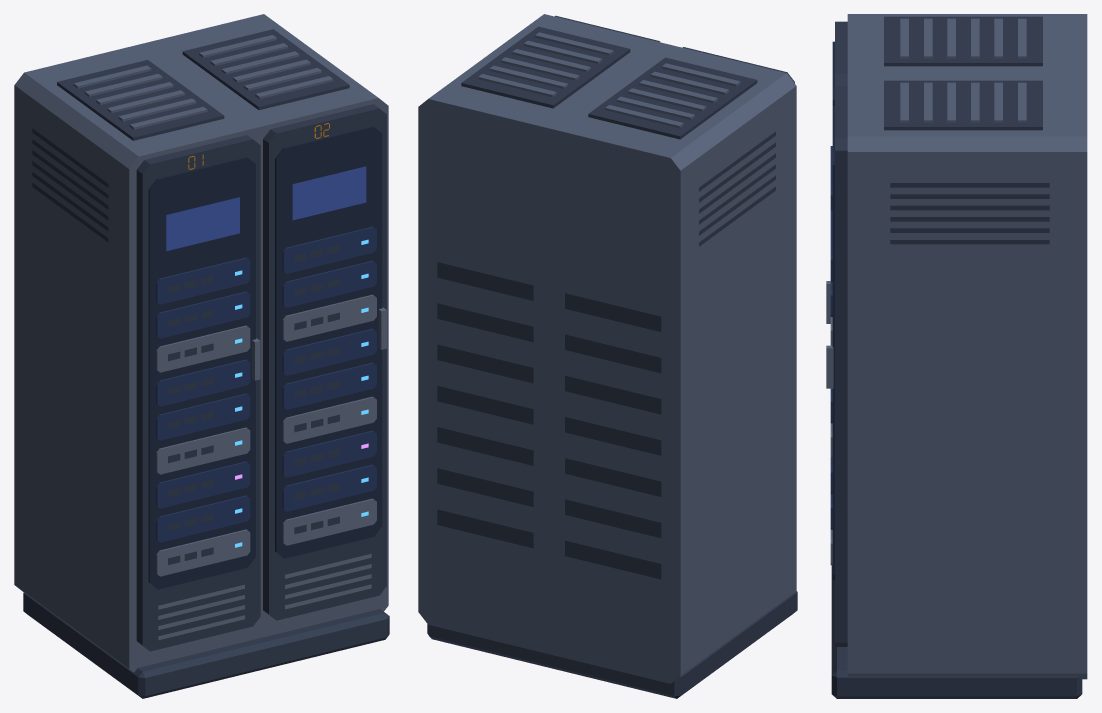
Rendered from wh_server_rack.glb.
3 views of the same model, side by side, from view 1: azimuth 30°, elevation 25°; view 2: azimuth 150°, elevation 25°; view 3: azimuth 270°, elevation 25° (orthographic). The views are drawn at different scales.
Parts seen in each view (by area): view 1: enclosure, door_frame, smoked_window, blade_tray.001, blade_tray, status; view 2: enclosure, door_frame; view 3: enclosure, door_frame, smoked_window, blade_tray, blade_tray.001.
Boxes of the visible parts, x1,y1,x2,y2 form: enclosure: [14, 14, 388, 672]; door_frame: [23, 29, 389, 698]; smoked_window: [148, 126, 382, 589]; blade_tray.001: [156, 226, 376, 542]; blade_tray: [156, 294, 386, 640]; status: [166, 166, 366, 251]; enclosure: [418, 14, 796, 683]; door_frame: [427, 15, 797, 698]; enclosure: [847, 14, 1087, 679]; door_frame: [831, 16, 1082, 698]; smoked_window: [832, 41, 834, 579]; blade_tray: [826, 281, 833, 565]; blade_tray.001: [830, 146, 832, 529].
Bounding box in the file's own units: 1.2 × 2.4 × 1.
